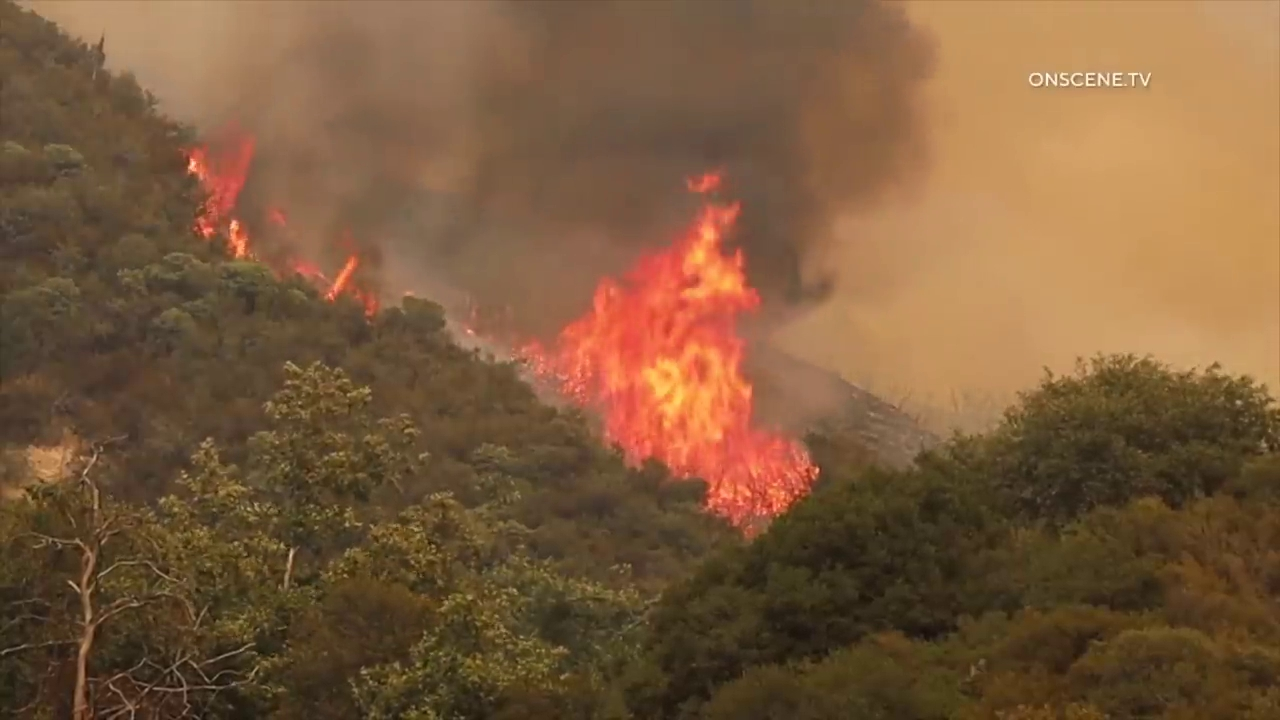forest_fire: (514, 173, 816, 527), (186, 130, 261, 258), (272, 249, 376, 315), (268, 209, 286, 226)
